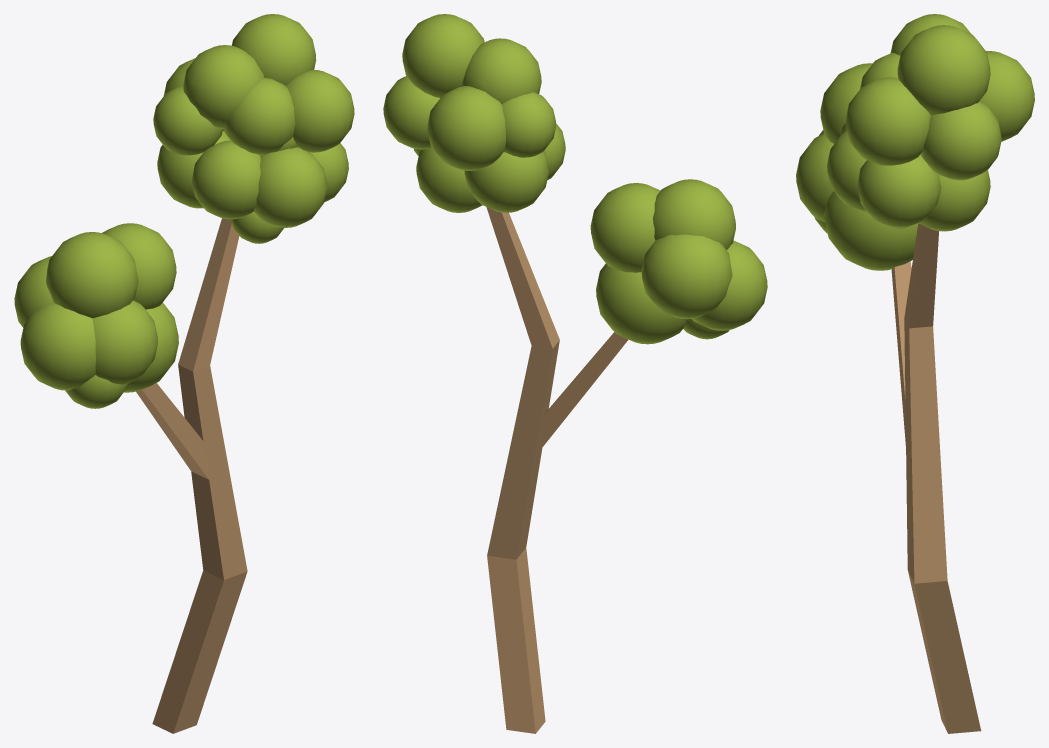
File: RC_Tree001.fbx
3 renders of one model, left to right at view 1: azimuth 30°, elevation 25°; view 2: azimuth 150°, elevation 25°; view 3: azimuth 270°, elevation 25°, orthographic. The views are drawn at different scales.
Visible parts, largest first — view 1: Tree_01; view 2: Tree_01; view 3: Tree_01.
Boxes of the visible parts, x1,y1,x2,y2 form: Tree_01: [14, 14, 354, 733]; Tree_01: [383, 14, 767, 733]; Tree_01: [796, 14, 1034, 733].
Bounding box in the file's own units: 328 × 645 × 188.
